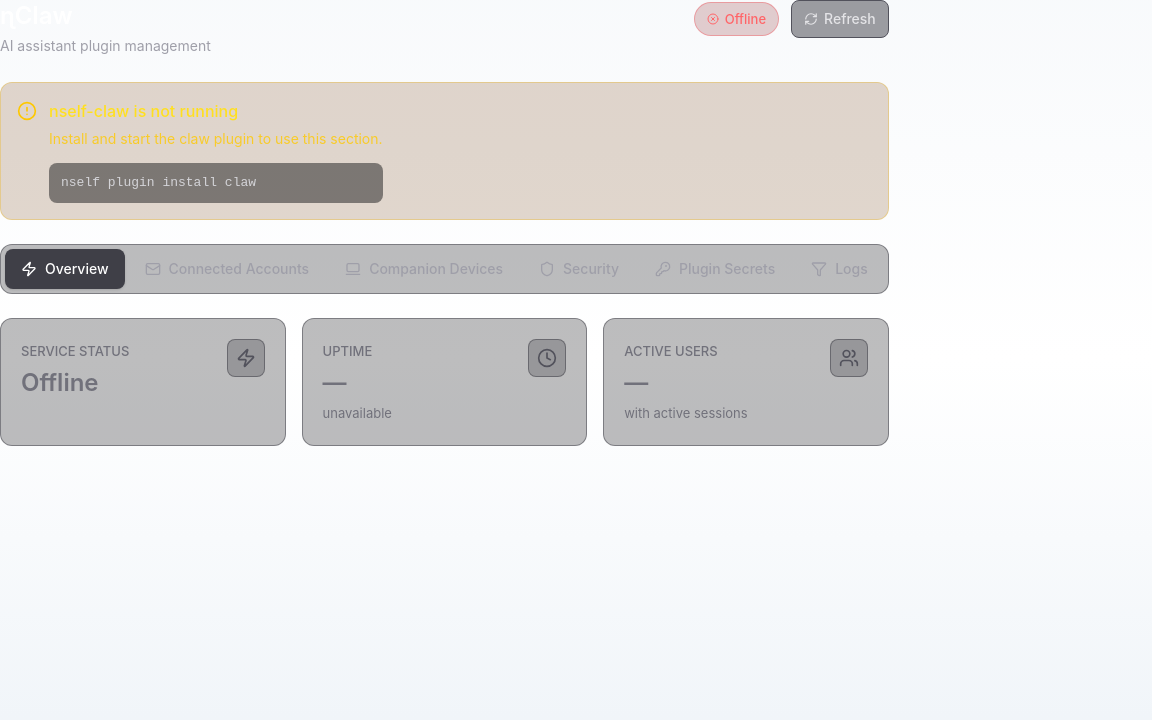
Test: NClawPage › Security section shows passkey enrollment button
Click the button "Security" at (579, 269), box left=523, top=249, right=635, bottom=289
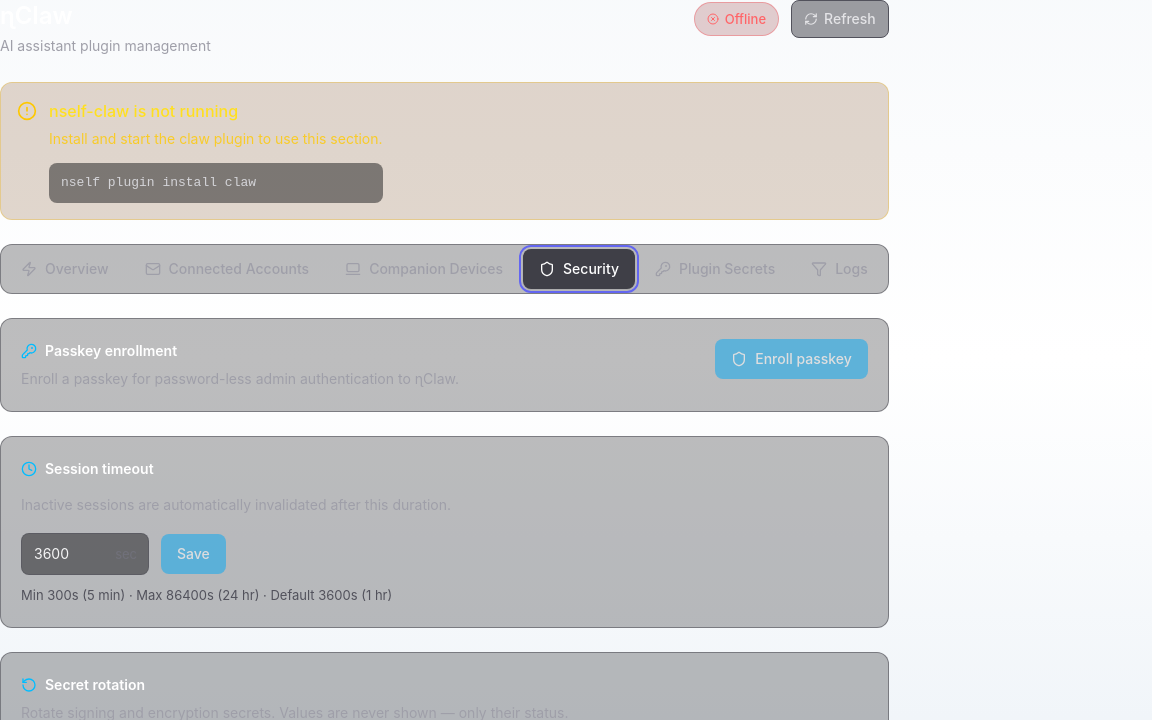
Check: the button "Enroll passkey" is shown, box left=715, top=339, right=868, bottom=379
